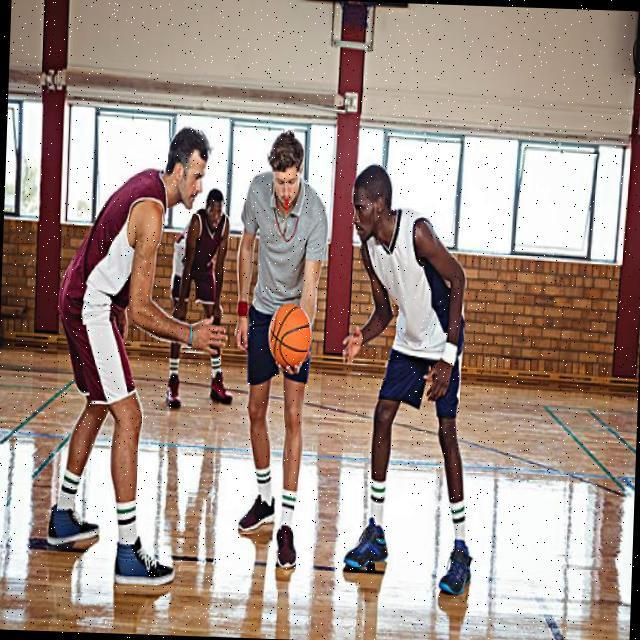ball: (267, 304, 313, 364)
